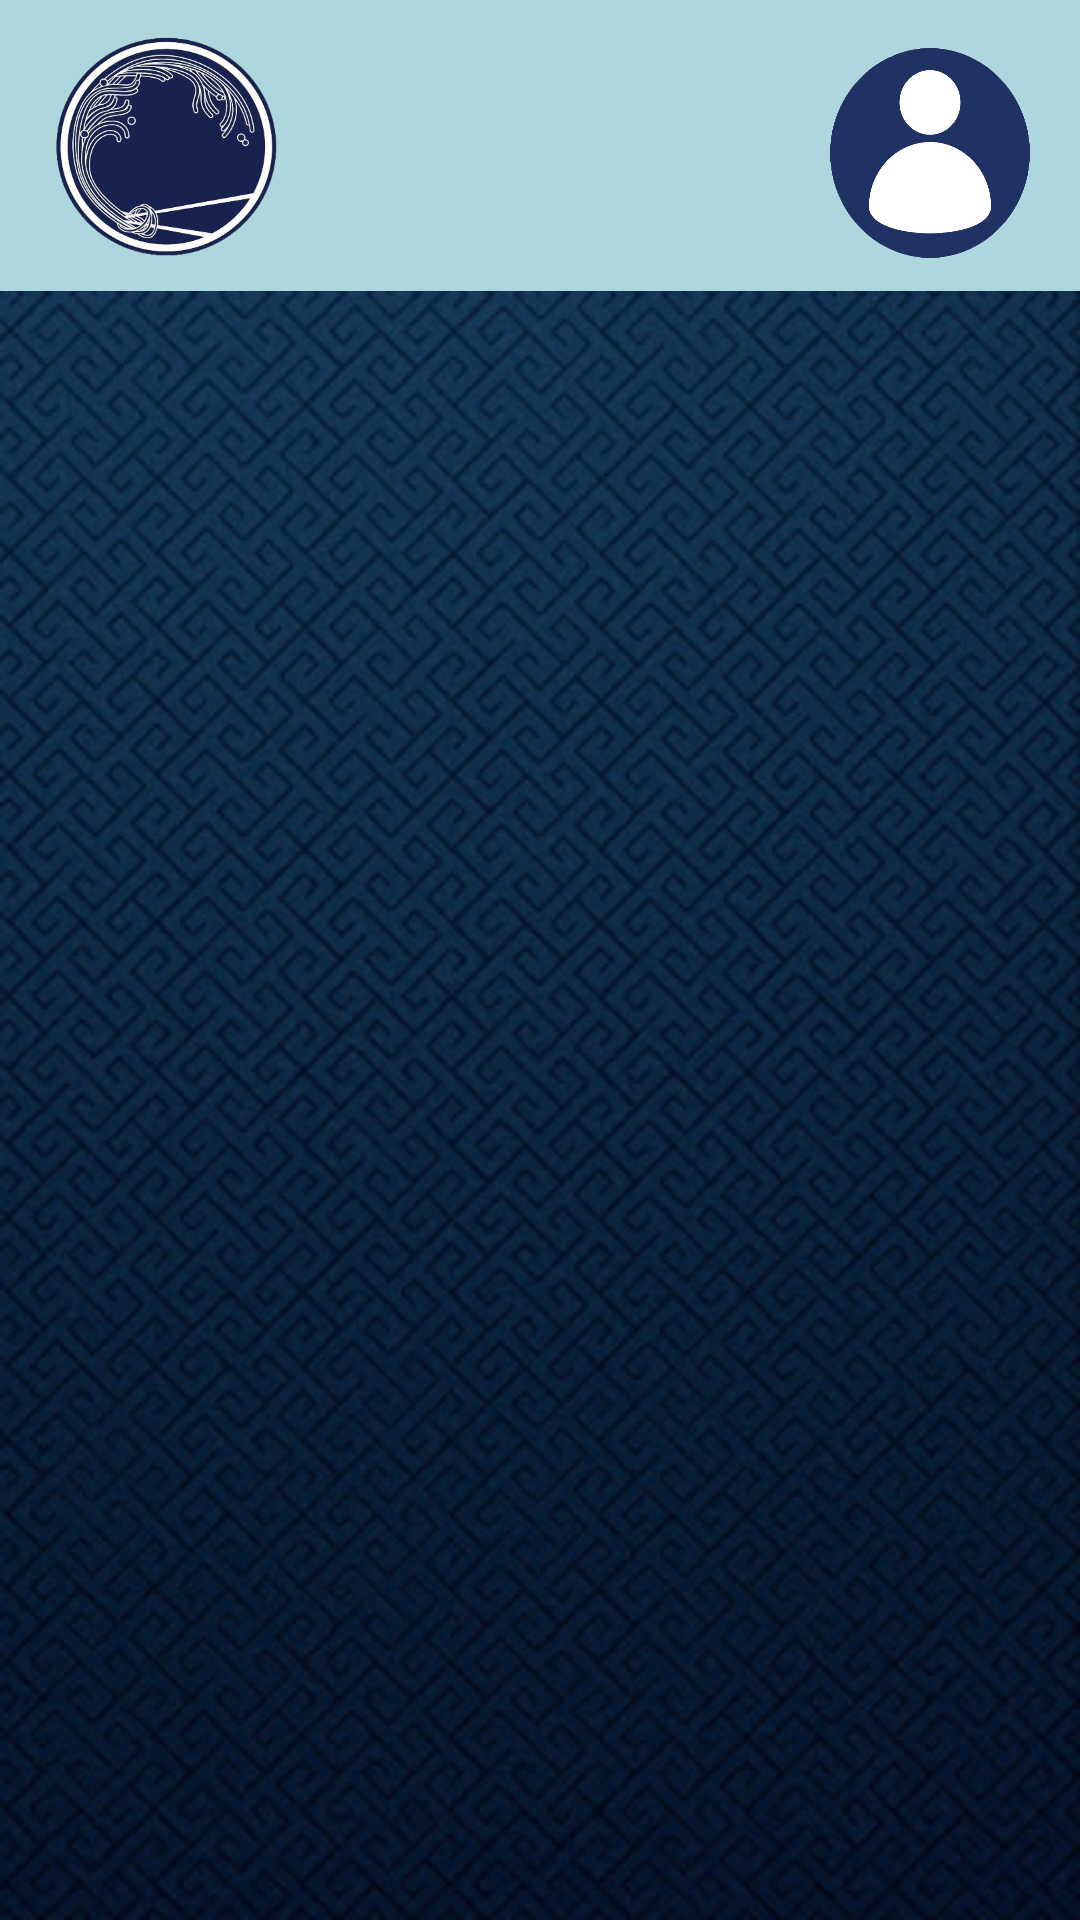

Icons on this 1080px x 1920px Android screen, each with its box as (x1,y1,x2,y2):
login: (830,48,1030,258)
